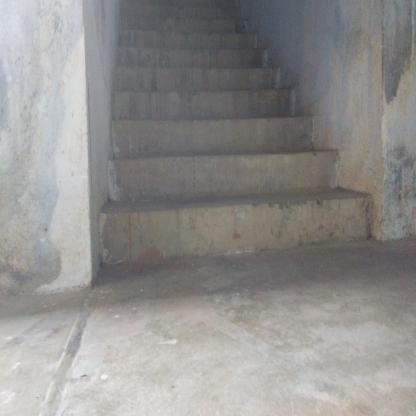stairs: (112, 90, 373, 258)
